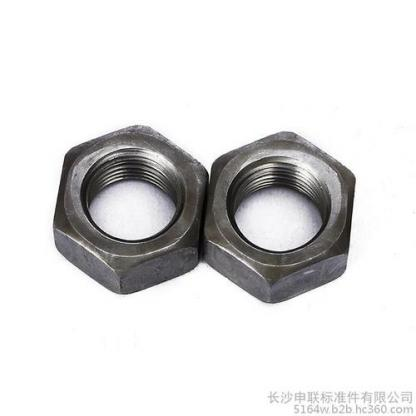FOD: (198, 129, 360, 304), (51, 122, 210, 297)
